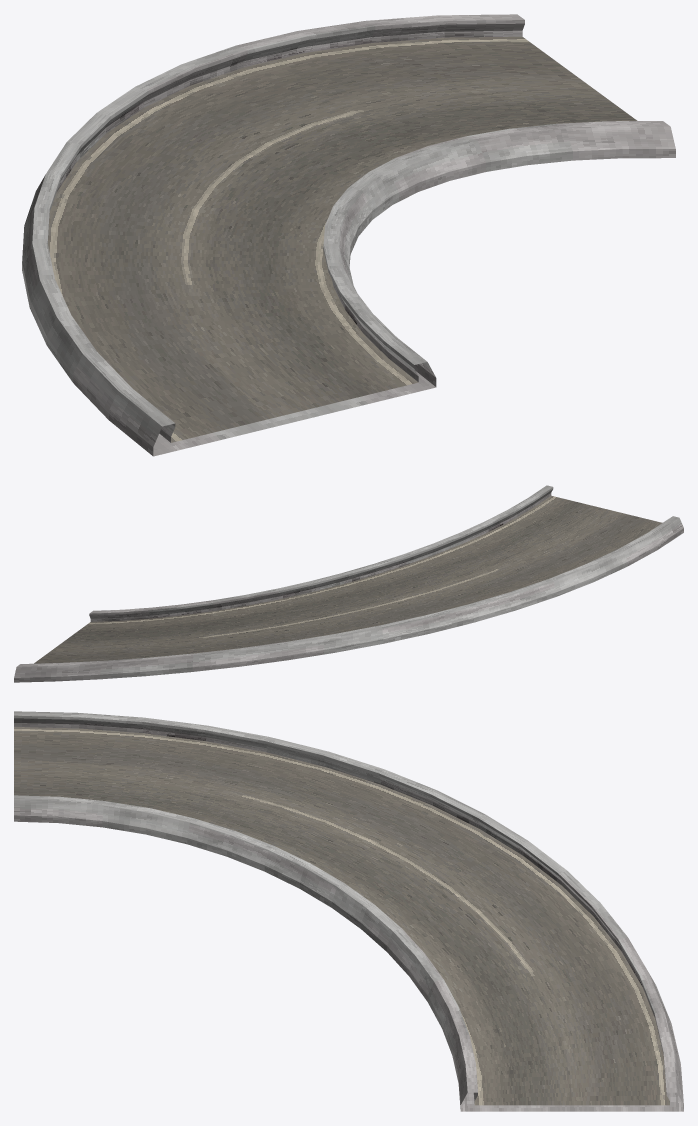
File: turn-right3x3.glb
3 views of the same model, one above another, from view 1: azimuth 30°, elevation 25°; view 2: azimuth 150°, elevation 25°; view 3: azimuth 270°, elevation 25° (orthographic). The views are drawn at different scales.
Parts seen in each view (by area): view 1: road-Turn-Flat-BiSlopeDown-Down2-Right-Size3; view 2: road-Turn-Flat-BiSlopeDown-Down2-Right-Size3; view 3: road-Turn-Flat-BiSlopeDown-Down2-Right-Size3.
Part boxes in pixels (left/top/right/bottom): road-Turn-Flat-BiSlopeDown-Down2-Right-Size3: left=22, top=14, right=675, bottom=456; road-Turn-Flat-BiSlopeDown-Down2-Right-Size3: left=14, top=485, right=683, bottom=682; road-Turn-Flat-BiSlopeDown-Down2-Right-Size3: left=14, top=711, right=683, bottom=1111.
Size of the model in its own units: 3 by 0.5938 by 3.
Materials: 2 (2 with a texture image).
